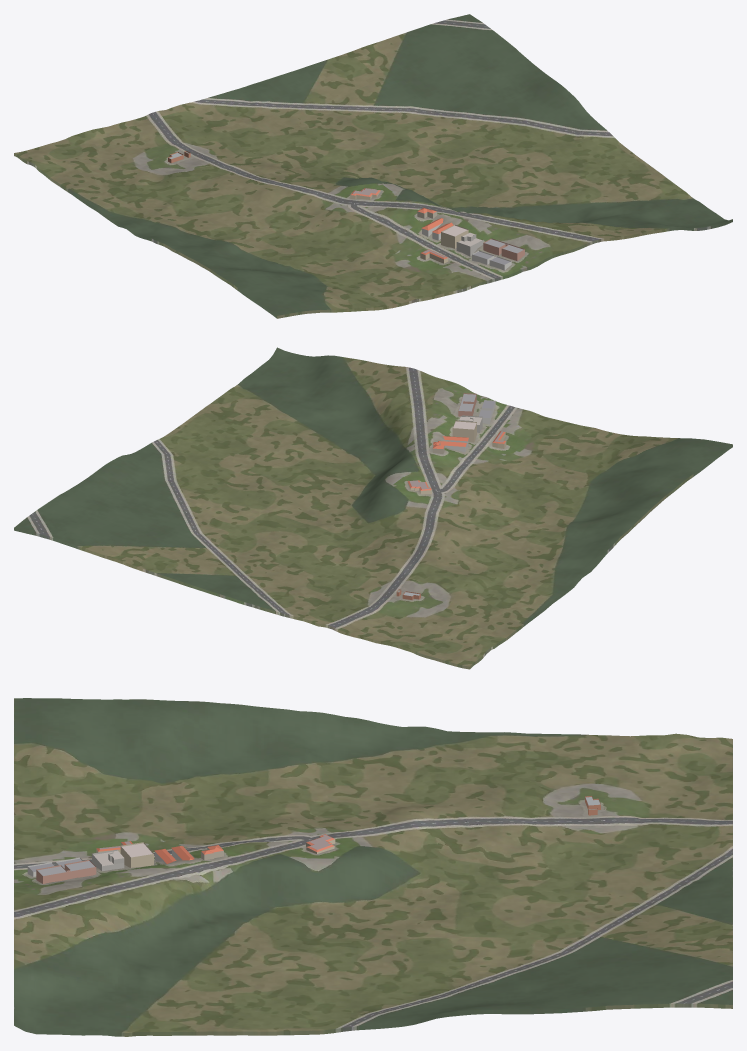
3 views of the same model, one above another, from view 1: azimuth 30°, elevation 25°; view 2: azimuth 150°, elevation 25°; view 3: azimuth 270°, elevation 25° (orthographic). The views are drawn at different scales.
Parts seen in each view (by area): view 1: terrain, buildings; view 2: terrain, buildings; view 3: terrain, buildings.
Part boxes in pixels (x1,y1,x2,y2): terrain: [14, 14, 732, 318]; buildings: [168, 151, 524, 270]; terrain: [14, 347, 732, 669]; buildings: [396, 393, 506, 600]; terrain: [14, 698, 732, 1036]; buildings: [27, 796, 600, 883].
Size of the model in its own units: 500 by 34.9 by 500.
Materials: 2 (1 with a texture image).
